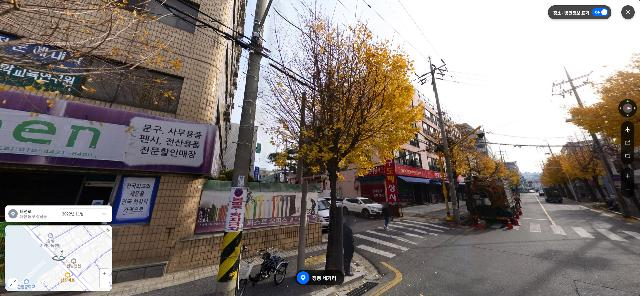ginkgo: (264, 0, 427, 274), (1, 0, 183, 105), (568, 52, 640, 219), (434, 109, 487, 215), (564, 151, 607, 203), (475, 154, 509, 180)
